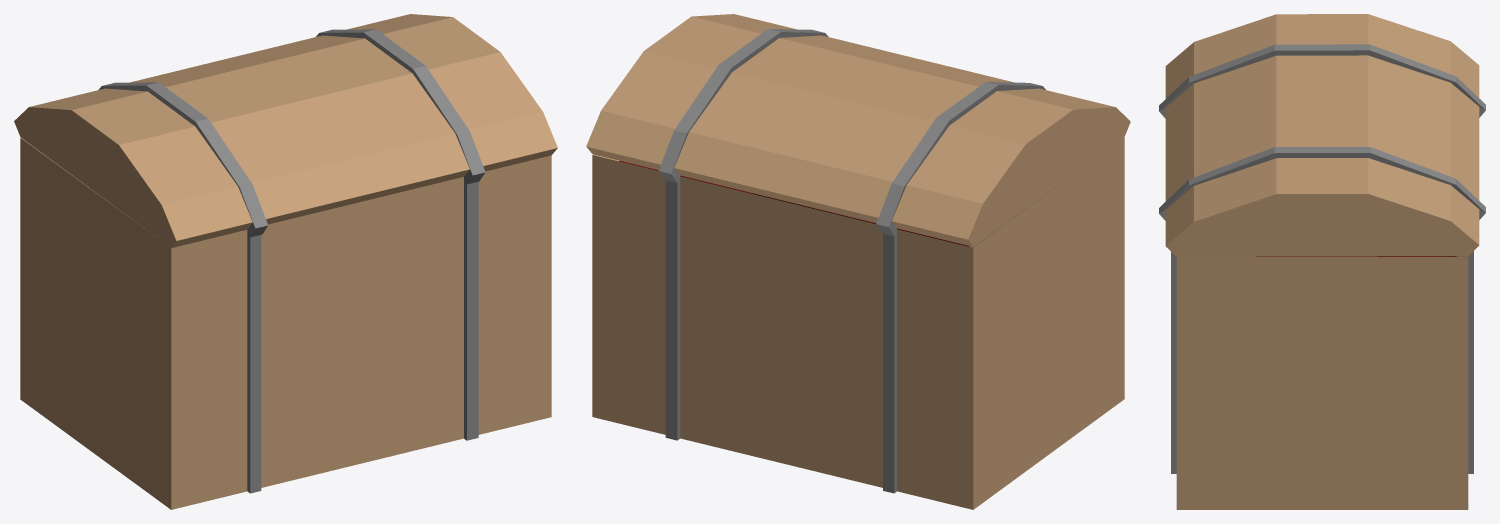
Rendered from Chest.fbx.
3 renders of one model, left to right at view 1: azimuth 30°, elevation 25°; view 2: azimuth 150°, elevation 25°; view 3: azimuth 270°, elevation 25°, orthographic. The views are drawn at different scales.
Parts seen in each view (by area): view 1: ChestMain, ChestDoor; view 2: ChestMain, ChestDoor; view 3: ChestMain, ChestDoor.
Boxes of the visible parts, left/top/right/bottom form: ChestMain: left=20, top=137, right=551, bottom=509; ChestDoor: left=14, top=14, right=557, bottom=247; ChestMain: left=592, top=137, right=1124, bottom=509; ChestDoor: left=586, top=14, right=1130, bottom=246; ChestMain: left=1171, top=251, right=1473, bottom=509; ChestDoor: left=1159, top=14, right=1485, bottom=256.
Bounding box in the file's own units: 0.7783 × 0.5975 × 0.6489.
